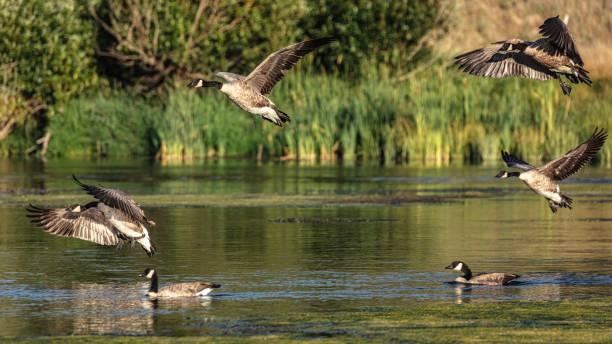Canadian-Goose: (184, 36, 334, 128), (454, 13, 591, 94), (23, 174, 155, 258), (495, 128, 601, 207), (136, 265, 220, 301), (442, 257, 521, 287)
